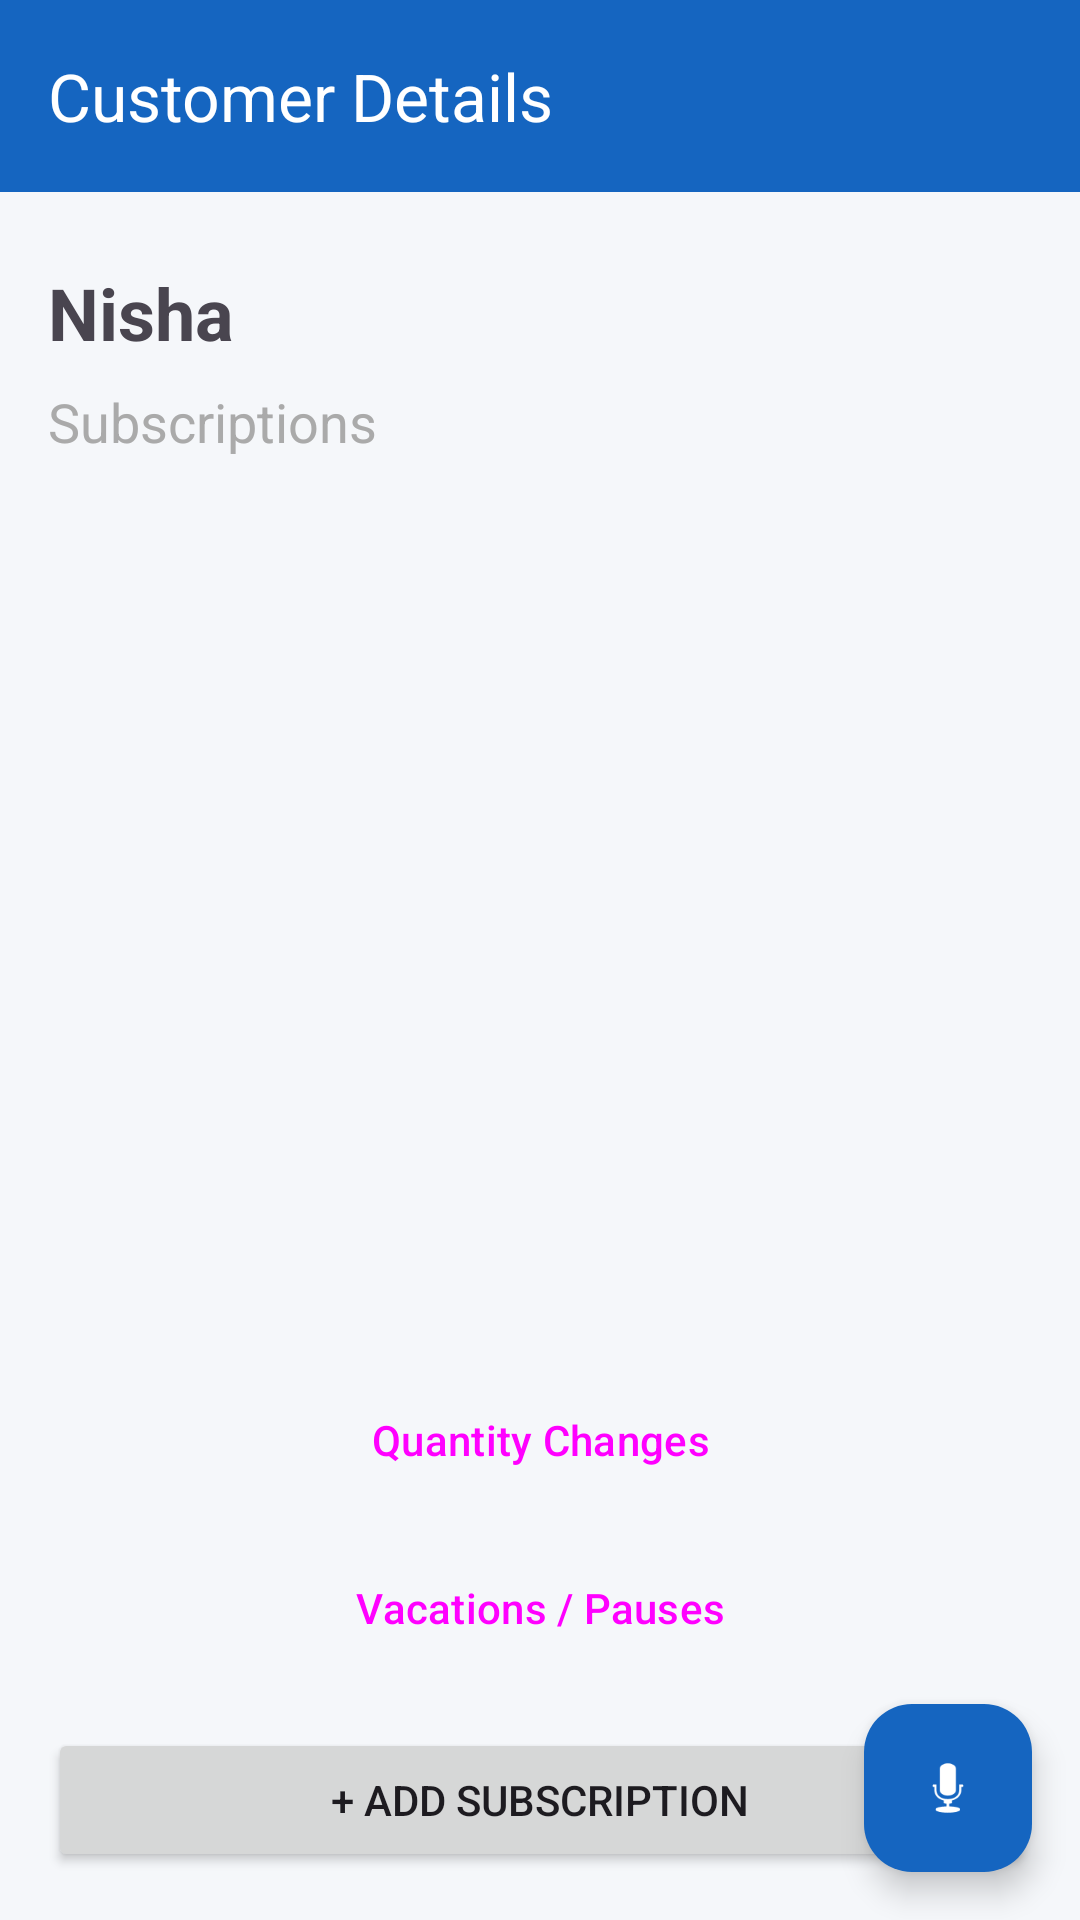

Screen size 1080*1920. Icon name, then its center in pixels as point (x, y):
speak now: point (948, 1788)
